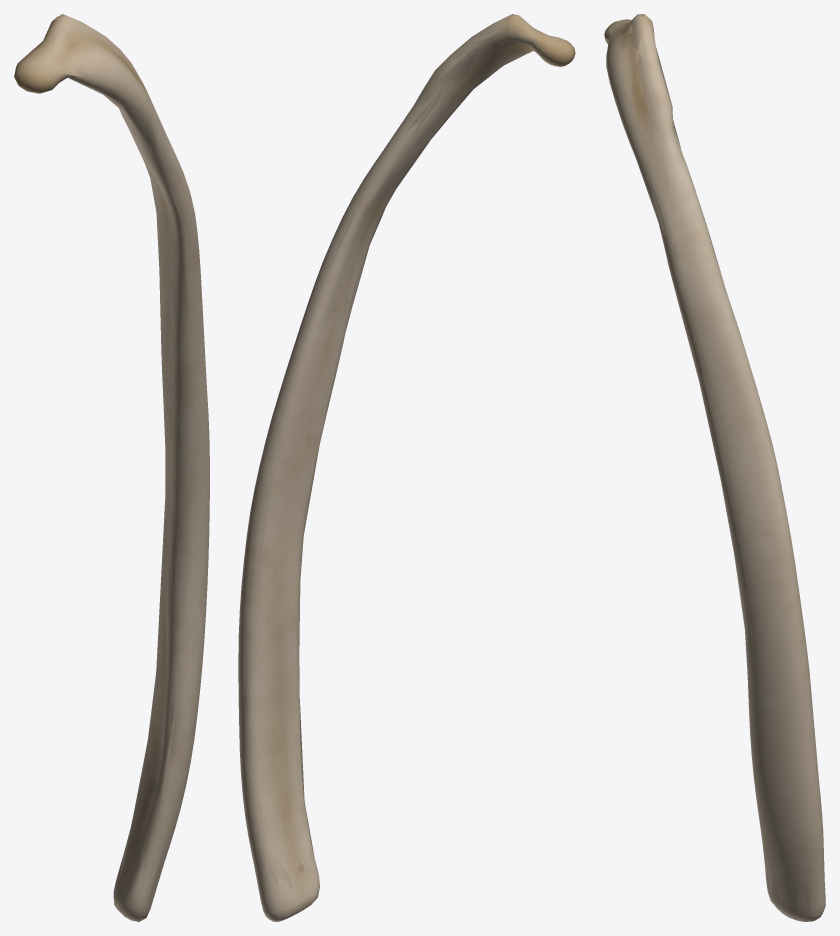
File: Rib L05.fbx
3 views of the same model, side by side, from view 1: azimuth 30°, elevation 25°; view 2: azimuth 150°, elevation 25°; view 3: azimuth 270°, elevation 25° (orthographic). The views are drawn at different scales.
Parts seen in each view (by area): view 1: Rib L05, Rib L05 low; view 2: Rib L05, Rib L05 low; view 3: Rib L05, Rib L05 low.
Boxes of the visible parts, x1,y1,x2,y2 form: Rib L05: (14,14,209,921); Rib L05 low: (19,15,209,920); Rib L05: (238,14,575,921); Rib L05 low: (242,14,569,921); Rib L05: (604,14,825,921); Rib L05 low: (605,16,824,919).
Bounding box in the file's own units: 13.18 × 45.32 × 10.87.
1 material, 1 textured.
